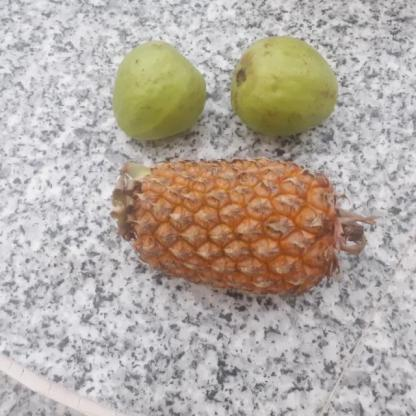guava: (226, 38, 337, 136), (110, 43, 206, 138)
pineapple: (112, 157, 350, 293)
